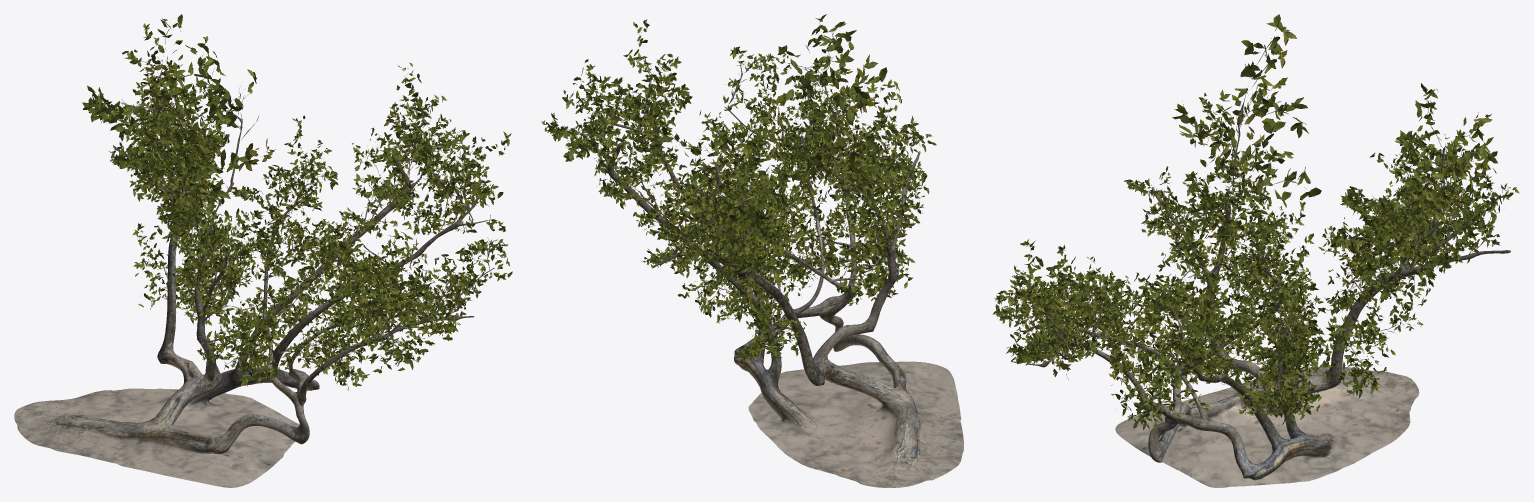
Rendered from island_tree_03.glb.
The picture shows the model from 3 angles, left to right: view 1: azimuth 30°, elevation 25°; view 2: azimuth 150°, elevation 25°; view 3: azimuth 270°, elevation 25°; orthographic projection. The views are drawn at different scales.
Parts seen in each view (by area): view 1: island_tree_03_LOD0.002, island_tree_03_LOD0.001, island_tree_03_LOD0; view 2: island_tree_03_LOD0.002, island_tree_03_LOD0.001, island_tree_03_LOD0; view 3: island_tree_03_LOD0.002, island_tree_03_LOD0.001, island_tree_03_LOD0.
Part boxes in pixels (bbox=[...]): island_tree_03_LOD0.002: bbox=[82, 14, 512, 389]; island_tree_03_LOD0.001: bbox=[14, 128, 494, 487]; island_tree_03_LOD0: bbox=[102, 21, 507, 390]; island_tree_03_LOD0.002: bbox=[541, 14, 936, 362]; island_tree_03_LOD0.001: bbox=[600, 107, 963, 487]; island_tree_03_LOD0: bbox=[549, 28, 923, 348]; island_tree_03_LOD0.002: bbox=[992, 14, 1519, 431]; island_tree_03_LOD0.001: bbox=[1026, 186, 1510, 487]; island_tree_03_LOD0: bbox=[997, 27, 1508, 424].
Bounding box in the file's own units: 2.98 × 2.63 × 2.93.
Materials: 3 (3 with a texture image).
